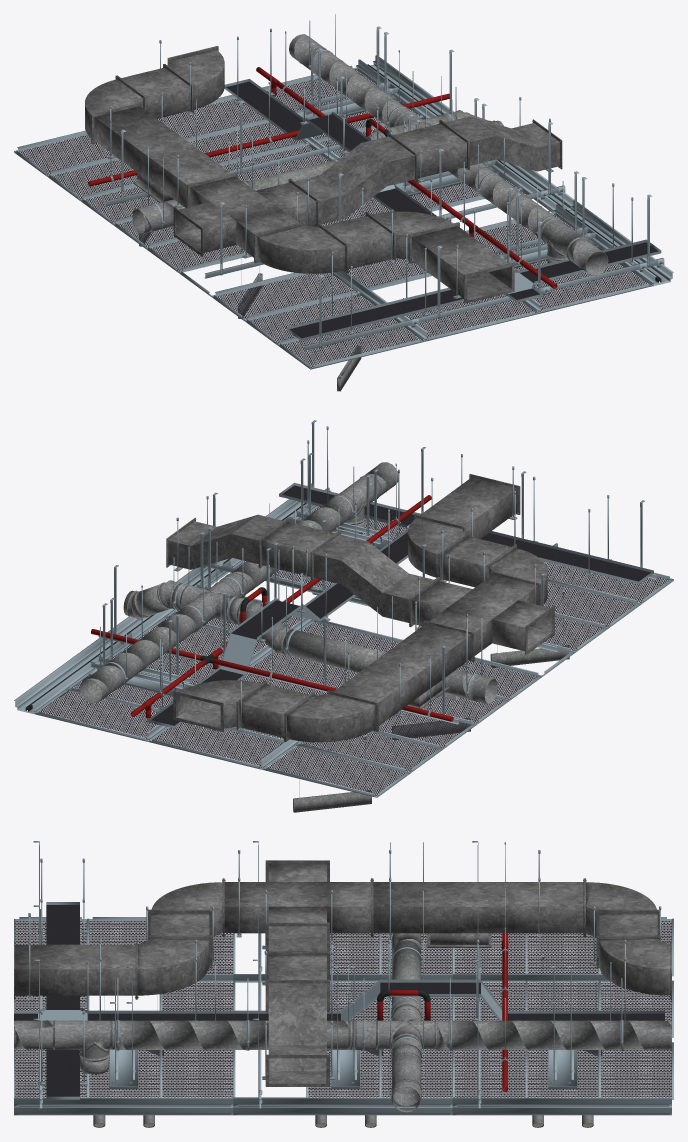
Rendered from techo.glb.
3 renders of one model, top to bottom at view 1: azimuth 30°, elevation 25°; view 2: azimuth 150°, elevation 25°; view 3: azimuth 270°, elevation 25°, orthographic. The views are drawn at different scales.
Parts seen in each view (by area): view 1: Cube.932_931, Cube.885_884, Cube.733_732, Cube.723_722, Cube.743_742, Cube.861_860, Cube.684_683, Cube.991_990, Cube.1014_1013, Cube.989_988, Cube.683_682, Cube.828_827 (+45 smaller); view 2: Cube.932_931, Cube.885_884, Cube.723_722, Cube.684_683, Cube.733_732, Cube.791_790, Cube.861_860, Cube.982_981, Cube.1005_1004, Cube.1007_1006, Cube.813_812, Cube.1014_1013 (+45 smaller); view 3: Cube.932_931, Cube.684_683, Cube.733_732, Cube.861_860, Cube.723_722, Cube.683_682, Cube.802_801, Cube.813_812, Cube.983_982, Cube.1007_1006, Cube.1006_1005, Cube.1014_1013 (+60 smaller).
Part boxes in pixels (x1=…): Cube.932_931: x1=94, y1=106, x2=231, y2=207; Cube.885_884: x1=294, y1=136, x2=414, y2=224; Cube.733_732: x1=412, y1=226, x2=514, y2=303; Cube.723_722: x1=445, y1=116, x2=560, y2=171; Cube.743_742: x1=257, y1=225, x2=345, y2=273; Cube.861_860: x1=190, y1=176, x2=298, y2=257; Cube.684_683: x1=289, y1=34, x2=410, y2=127; Cube.991_990: x1=216, y1=273, x2=356, y2=319; Cube.1014_1013: x1=224, y1=79, x2=661, y2=340; Cube.989_988: x1=282, y1=319, x2=421, y2=367; Cube.683_682: x1=448, y1=163, x2=556, y2=239; Cube.828_827: x1=393, y1=123, x2=466, y2=178; Cube.932_931: x1=334, y1=623, x2=471, y2=725; Cube.885_884: x1=313, y1=534, x2=433, y2=622; Cube.723_722: x1=168, y1=514, x2=283, y2=569; Cube.684_683: x1=79, y1=602, x2=207, y2=703; Cube.733_732: x1=420, y1=474, x2=520, y2=538; Cube.791_790: x1=287, y1=694, x2=375, y2=742; Cube.861_860: x1=430, y1=574, x2=538, y2=655; Cube.982_981: x1=266, y1=746, x2=404, y2=795; Cube.1005_1004: x1=152, y1=722, x2=282, y2=768; Cube.1007_1006: x1=37, y1=690, x2=157, y2=740; Cube.813_812: x1=176, y1=680, x2=261, y2=728; Cube.1014_1013: x1=148, y1=482, x2=653, y2=728; Cube.932_931: x1=373, y1=882, x2=583, y2=933; Cube.684_683: x1=437, y1=1020, x2=671, y2=1050; Cube.733_732: x1=14, y1=940, x2=135, y2=999; Cube.861_860: x1=224, y1=882, x2=370, y2=933; Cube.723_722: x1=268, y1=983, x2=326, y2=1083; Cube.683_682: x1=114, y1=1020, x2=348, y2=1050; Cube.802_801: x1=137, y1=939, x2=209, y2=995; Cube.813_812: x1=599, y1=939, x2=670, y2=995; Cube.983_982: x1=162, y1=1050, x2=232, y2=1097; Cube.1007_1006: x1=601, y1=1050, x2=671, y2=1097; Cube.1006_1005: x1=454, y1=1050, x2=525, y2=1097; Cube.1014_1013: x1=14, y1=902, x2=664, y2=1099.
Bounding box in the file's own units: 650 × 249 × 913.
Materials: 11 (11 with a texture image).
